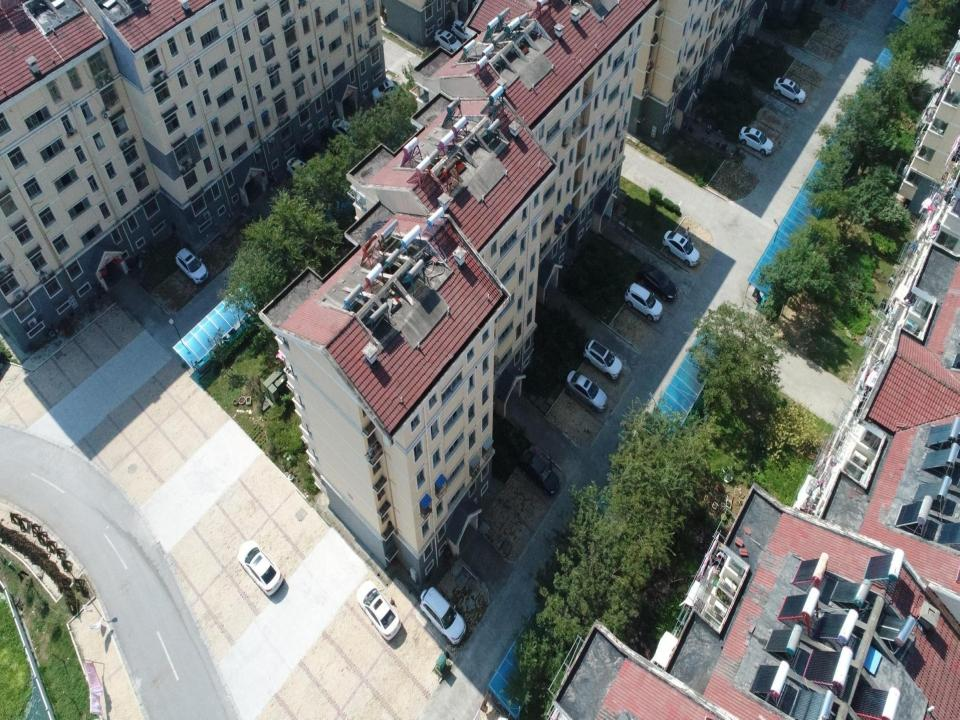car: (415, 586, 467, 646), (355, 580, 401, 642), (238, 540, 284, 596), (518, 450, 560, 494), (564, 372, 607, 413), (638, 259, 678, 303), (580, 340, 622, 381), (625, 282, 663, 322), (173, 247, 209, 285), (662, 228, 698, 266), (738, 126, 773, 157), (773, 76, 807, 104), (434, 28, 462, 57), (285, 156, 312, 185), (371, 79, 402, 103), (302, 144, 329, 170), (332, 117, 359, 142), (322, 129, 345, 158), (450, 19, 472, 42)
